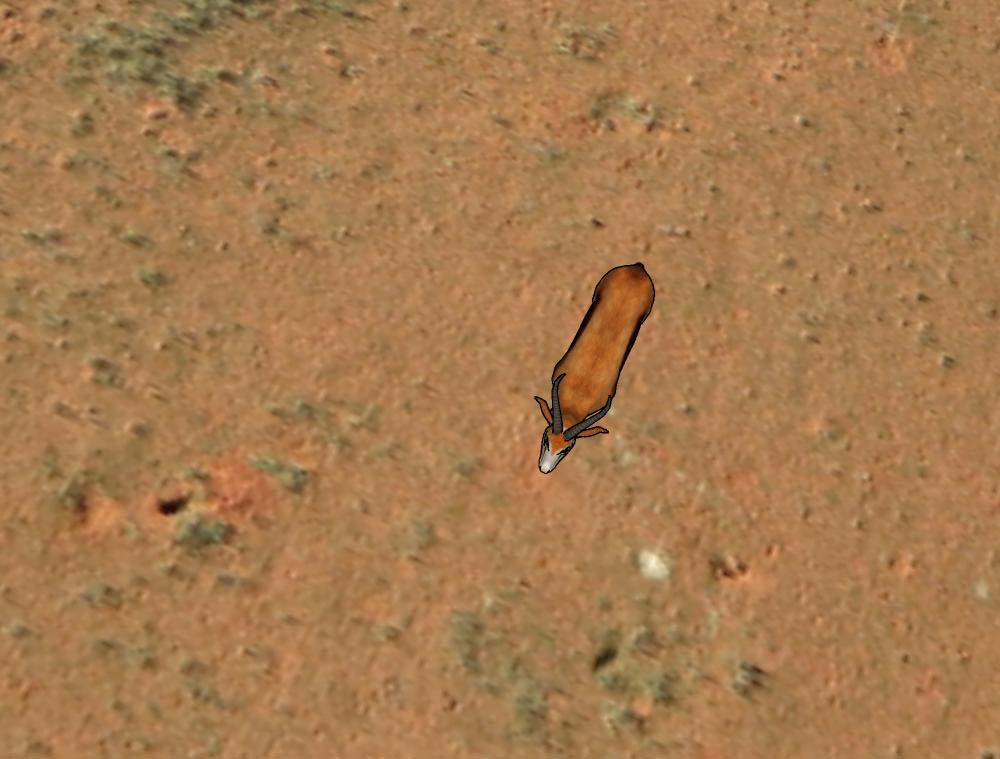springbok: (533, 252, 664, 481)
